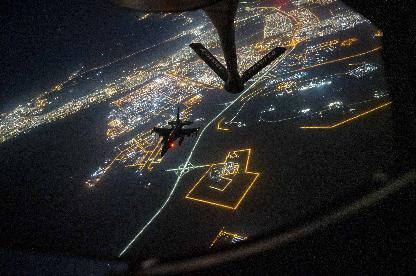F14: (149, 106, 199, 158)
